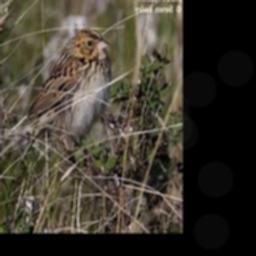Sparrow: (0, 27, 115, 162)
